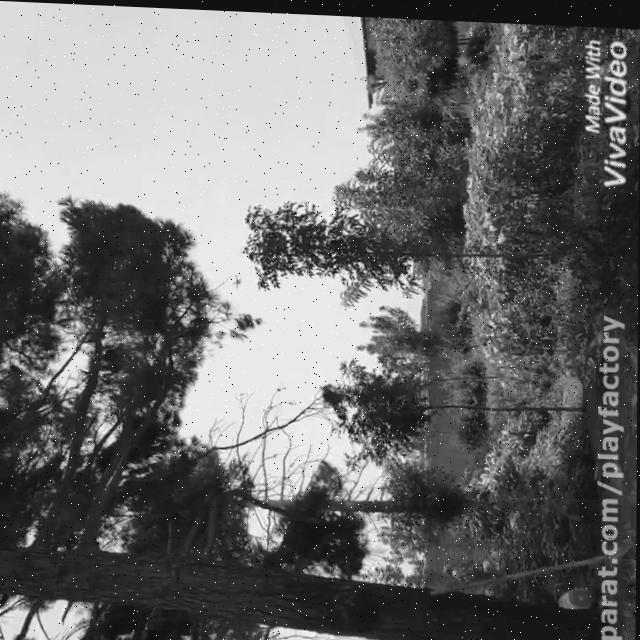drone: (229, 269, 242, 288)
